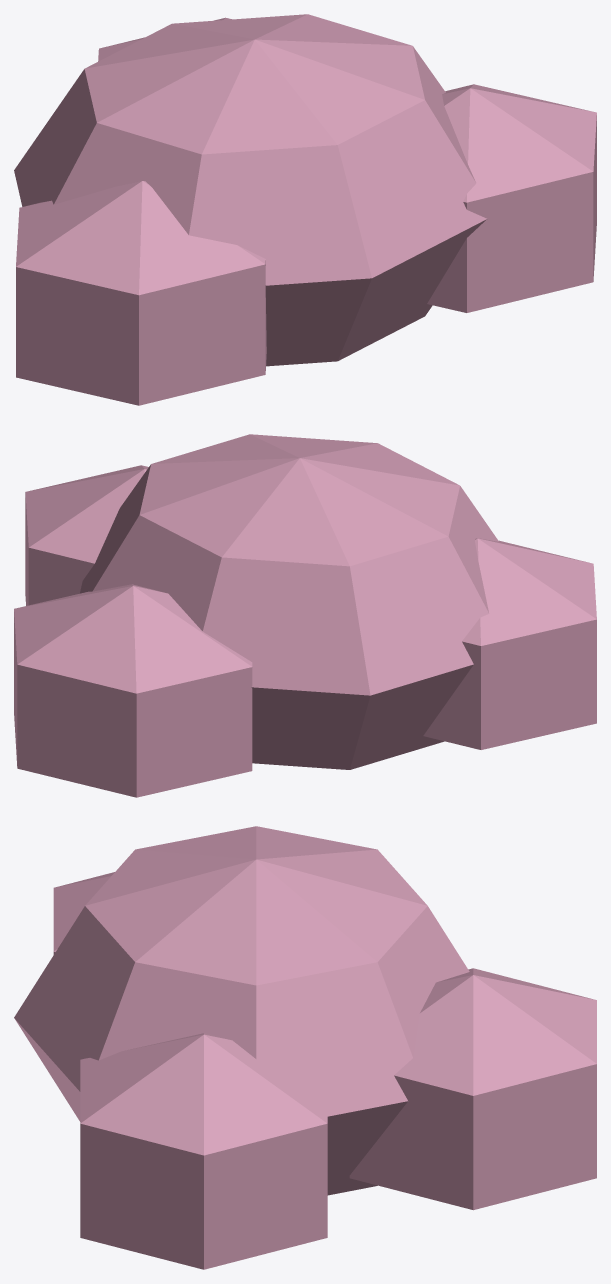
3 renders of one model, top to bottom at view 1: azimuth 30°, elevation 25°; view 2: azimuth 150°, elevation 25°; view 3: azimuth 270°, elevation 25°, orthographic. The views are drawn at different scales.
Visible parts, largest first — view 1: SC_PlateauRhododendronBloom; view 2: SC_PlateauRhododendronBloom; view 3: SC_PlateauRhododendronBloom.
Boxes of the visible parts, box(x1,y1,x2,y2) form: SC_PlateauRhododendronBloom: box(14, 14, 596, 405); SC_PlateauRhododendronBloom: box(14, 434, 596, 797); SC_PlateauRhododendronBloom: box(14, 826, 596, 1269).
Bounding box in the file's own units: 1.46 × 0.72 × 1.2.
